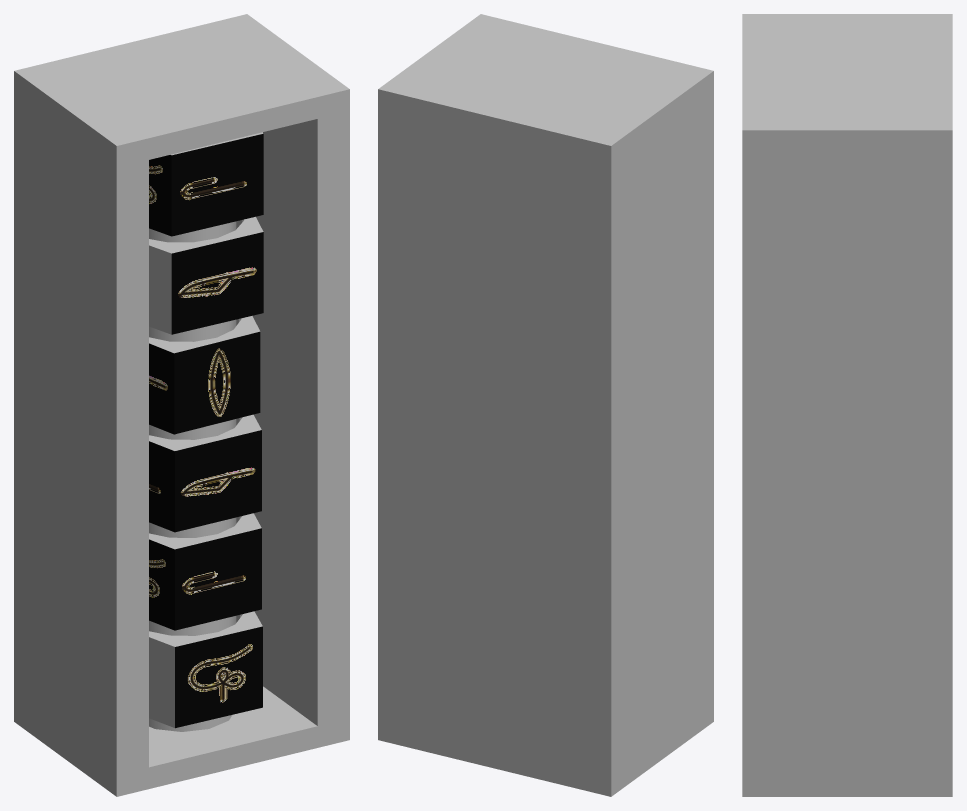
File: wallpuzzle.fbx
3 renders of one model, left to right at view 1: azimuth 30°, elevation 25°; view 2: azimuth 150°, elevation 25°; view 3: azimuth 270°, elevation 25°, orthographic. The views are drawn at different scales.
Parts seen in each view (by area): view 1: CubePuzzle, CylinderPuzzle3, CylinderPuzzle2, CylinderPuzzle6, CylinderPuzzle4, CylinderPuzzle1, CylinderPuzzle5, MainCylinder; view 2: CubePuzzle; view 3: CubePuzzle.
Boxes of the visible parts, left/top/right/bottom form: CubePuzzle: left=14, top=14, right=349, bottom=796; CylinderPuzzle3: left=149, top=216, right=263, bottom=334; CylinderPuzzle2: left=149, top=611, right=262, bottom=728; CylinderPuzzle6: left=149, top=414, right=261, bottom=532; CylinderPuzzle4: left=149, top=513, right=261, bottom=630; CylinderPuzzle1: left=149, top=316, right=260, bottom=434; CylinderPuzzle5: left=149, top=132, right=263, bottom=236; MainCylinder: left=149, top=221, right=236, bottom=731; CubePuzzle: left=378, top=14, right=713, bottom=796; CubePuzzle: left=742, top=14, right=952, bottom=796.
Size of the model in its own units: 497 by 1325 by 379.
